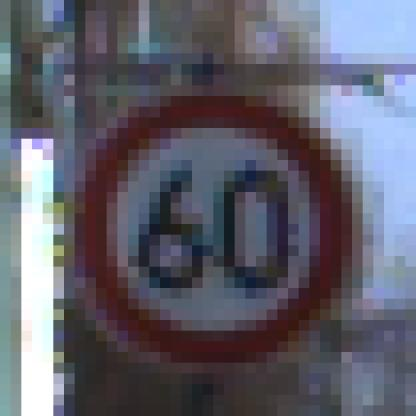Speed Limit 60: (79, 88, 349, 362)
